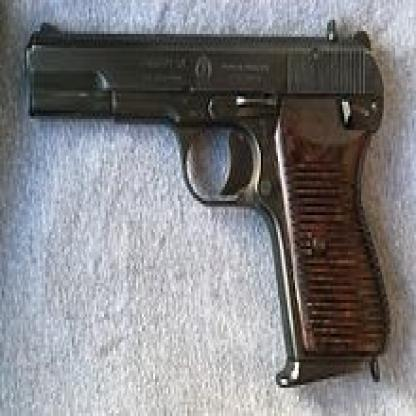Pistol: (15, 11, 393, 388)
